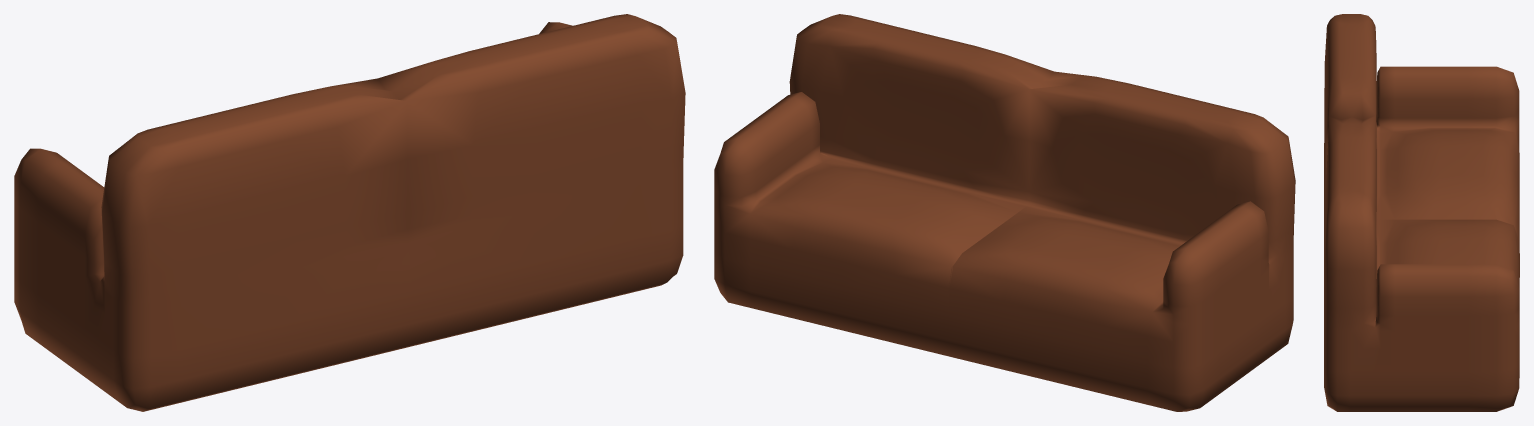
File: couch.fbx
3 renders of one model, left to right at view 1: azimuth 30°, elevation 25°; view 2: azimuth 150°, elevation 25°; view 3: azimuth 270°, elevation 25°, orthographic. The views are drawn at different scales.
Visible parts, largest first — view 1: Cube; view 2: Cube; view 3: Cube.
Part boxes in pixels (x1=…): Cube: x1=14, y1=14, x2=685, y2=411; Cube: x1=714, y1=14, x2=1295, y2=411; Cube: x1=1324, y1=14, x2=1519, y2=411.
Size of the model in its own units: 992 by 441 by 380.
